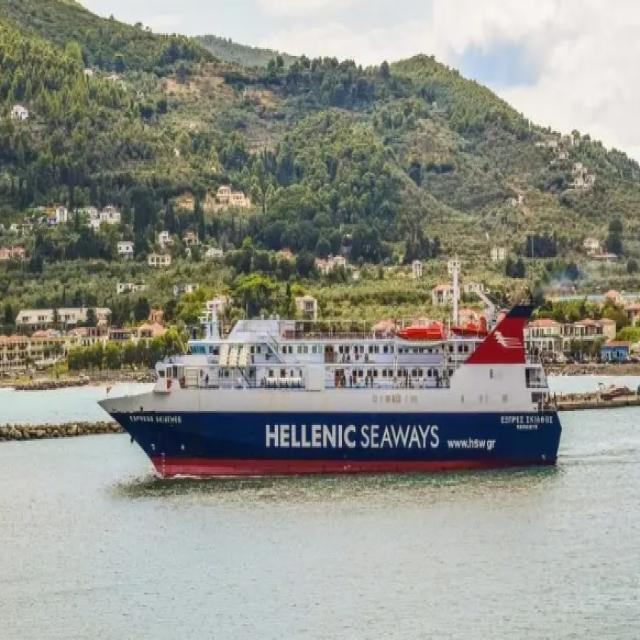passenger ship: (85, 250, 570, 492)
